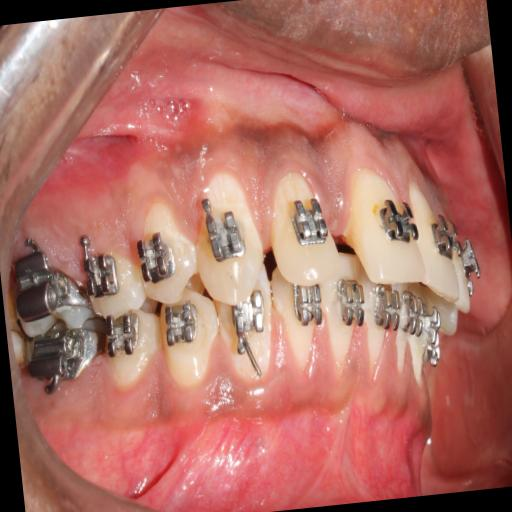correct_brace: (134, 196, 202, 312), (204, 205, 248, 263), (291, 192, 332, 249), (378, 198, 419, 246)
incorrect_brace: (264, 173, 342, 291), (136, 228, 180, 288)
